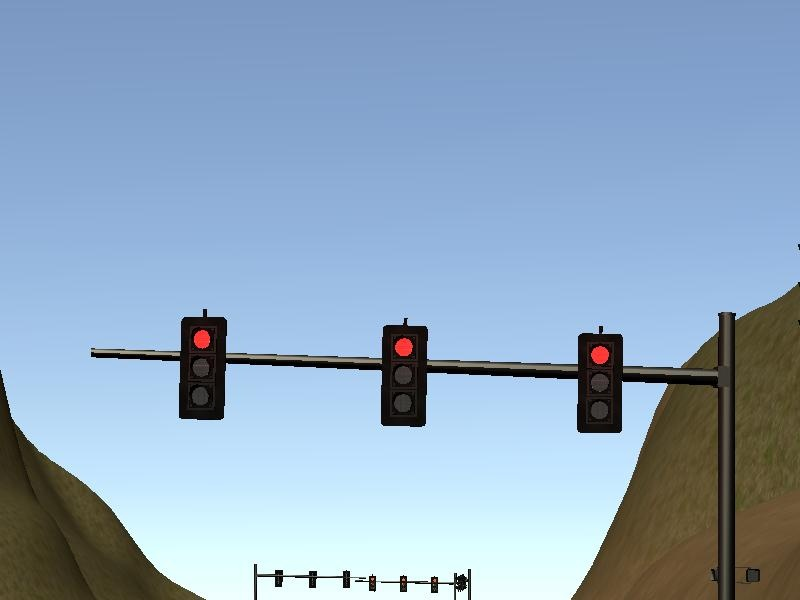RED: (179, 316, 226, 419), (381, 325, 428, 428), (576, 331, 623, 434)
